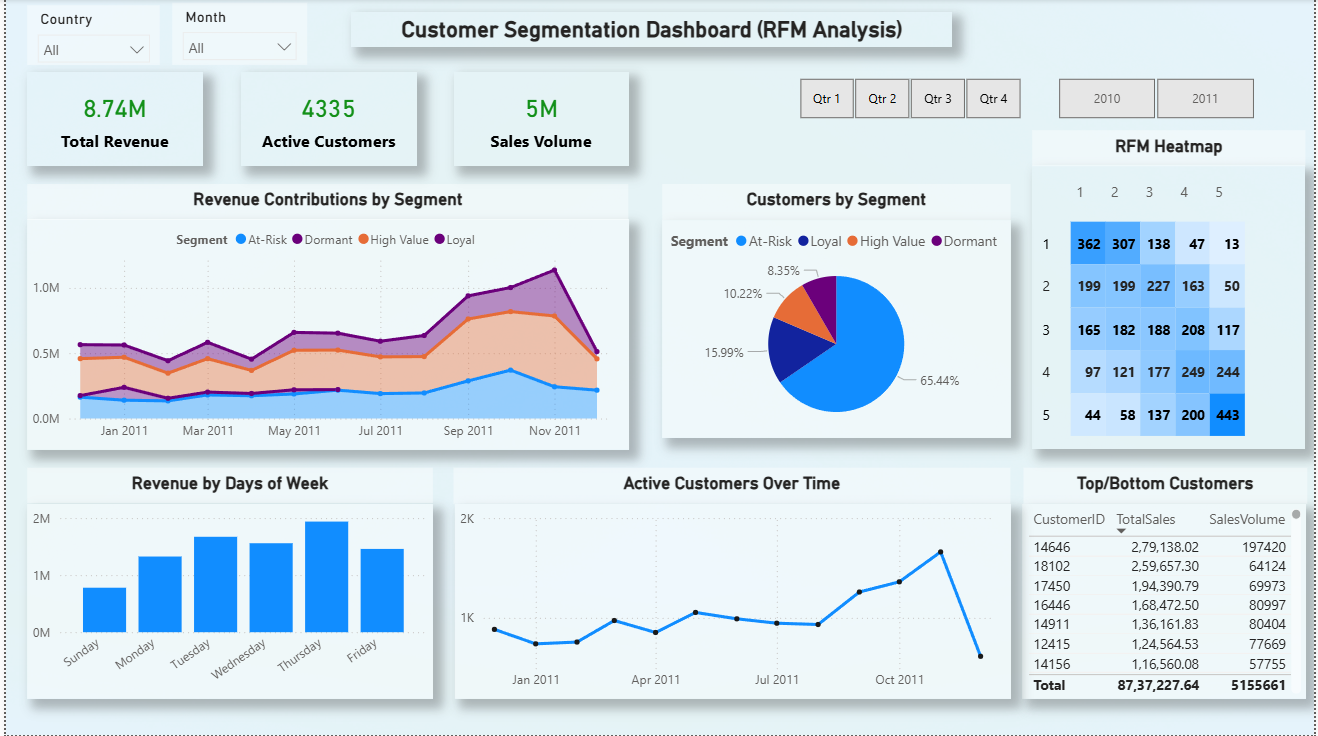

What the dashboard file says about the page in this screenshot:
{"tool":"powerbi","page":{"name":"Page 1","canvas":[1280,720],"ordinal":0},"visuals":[{"type":"card","fields":{"Values":["Report Measures.TotalSales"]},"box":[21.2,71.1,172.1,92.3],"z":0},{"type":"stackedAreaChart","fields":{"Category":["date.InvoiceDate.Variation.Date Hierarchy.Year","date.InvoiceDate.Variation.Date Hierarchy.Quarter","date.InvoiceDate.Variation.Date Hierarchy.Month"],"Y":["Report Measures.TotalSales"],"Series":["rfm_new_data.Segment"]},"box":[20.9,215.7,588.5,225.4],"z":1000},{"type":"slicer","fields":{"Values":["date.InvoiceDate.Variation.Date Hierarchy.Quarter"]},"box":[750.5,71.1,265.6,52.4],"z":2000},{"type":"slicer","fields":{"Values":["df_cleaned.Country"]},"box":[21.2,6.2,129.7,58.6],"z":3000},{"type":"pieChart","fields":{"Y":["Report Measures.ActiveCustomers"],"Category":["rfm_new_data.Segment"]},"box":[641.9,216.4,340.8,212.7],"z":4000},{"type":"tableEx","fields":{"Values":["df_cleaned.CustomerID","Report Measures.TotalSales","Report Measures.SalesVolume"]},"box":[993.9,493.9,277.4,190.3],"z":5000},{"type":"pivotTable","fields":{"Rows":["rfm_new_data.R_Score"],"Columns":["rfm_new_data.F_Score"],"Values":["CountNonNull(rfm_new_data.M_Score)"]},"box":[1003.9,163,267.5,277.4],"z":6000},{"type":"clusteredColumnChart","fields":{"Y":["Report Measures.TotalSales"],"Category":["date.DayOfWeek"]},"box":[20.9,493.9,396.5,190.6],"z":7000},{"type":"slicer","fields":{"Values":["date.InvoiceDate.Variation.Date Hierarchy.Year"]},"box":[1003.6,71.1,240.6,52.4],"z":8000},{"type":"lineChart","fields":{"Y":["Report Measures.ActiveCustomers"],"Category":["date.InvoiceDate.Variation.Date Hierarchy.Year","date.InvoiceDate.Variation.Date Hierarchy.Quarter","date.InvoiceDate.Variation.Date Hierarchy.Month"]},"box":[439.1,493.9,543.6,190.3],"z":9000},{"type":"textbox","box":[21.1,180.4,588.4,34.8],"z":10000},{"type":"textbox","box":[641.9,180.4,340.8,34.8],"z":11000},{"type":"textbox","box":[437.9,459,544.9,34.8],"z":12000},{"type":"textbox","box":[20.9,459.1,396.5,34.8],"z":13000},{"type":"slicer","fields":{"Values":["date.Month"]},"box":[163,3.7,131.9,61],"z":14000},{"type":"textbox","box":[995.2,459,277.4,34.8],"z":15000},{"type":"textbox","box":[1003.9,128.1,267.5,34.8],"z":16000},{"type":"card","fields":{"Values":["Report Measures.ActiveCustomers"]},"box":[229.4,71.1,172.1,92.3],"z":17000},{"type":"card","fields":{"Values":["Report Measures.SalesVolume"]},"box":[437.6,71.1,172.1,92.3],"z":18000},{"type":"textbox","box":[337.1,12.4,588.4,34.8],"z":19000}]}

Visuals, with their boxes in screenshot pixels (x1, y1, x2, y2), scaled from the page's 1280x720 canvas onto the 1318x736 screenshot:
card - Report Measures.TotalSales: 22,73,199,167
stackedAreaChart - date.InvoiceDate.Variation.Date Hierarchy.Year x date.InvoiceDate.Variation.Date Hierarchy.Quarter: 22,220,627,451
slicer - date.InvoiceDate.Variation.Date Hierarchy.Quarter: 773,73,1046,126
slicer - df_cleaned.Country: 22,6,155,66
pieChart - Report Measures.ActiveCustomers x rfm_new_data.Segment: 661,221,1012,439
tableEx - df_cleaned.CustomerID x Report Measures.TotalSales: 1023,505,1309,699
pivotTable - rfm_new_data.R_Score x rfm_new_data.F_Score: 1034,167,1309,450
clusteredColumnChart - Report Measures.TotalSales x date.DayOfWeek: 22,505,430,700
slicer - date.InvoiceDate.Variation.Date Hierarchy.Year: 1033,73,1281,126
lineChart - Report Measures.ActiveCustomers x date.InvoiceDate.Variation.Date Hierarchy.Year: 452,505,1012,699
textbox: 22,184,628,220
textbox: 661,184,1012,220
textbox: 451,469,1012,505
textbox: 22,469,430,505
slicer - date.Month: 168,4,304,66
textbox: 1025,469,1310,505
textbox: 1034,131,1309,167
card - Report Measures.ActiveCustomers: 236,73,413,167
card - Report Measures.SalesVolume: 451,73,628,167
textbox: 347,13,953,48
